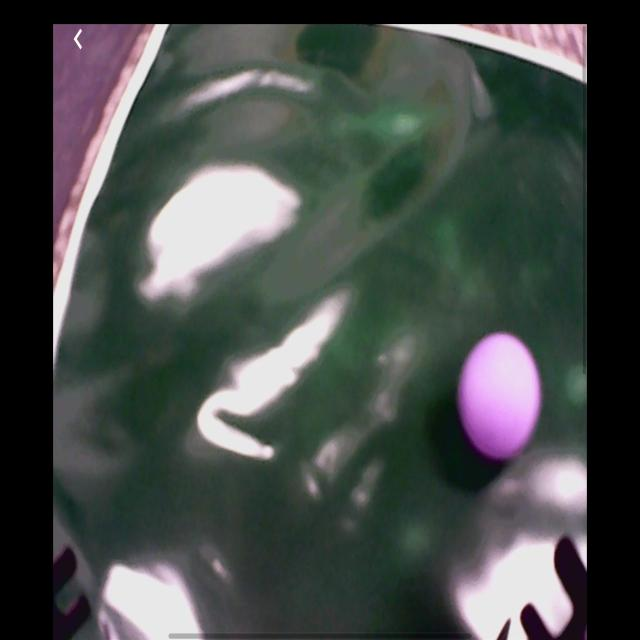ball: (462, 336, 541, 464)
